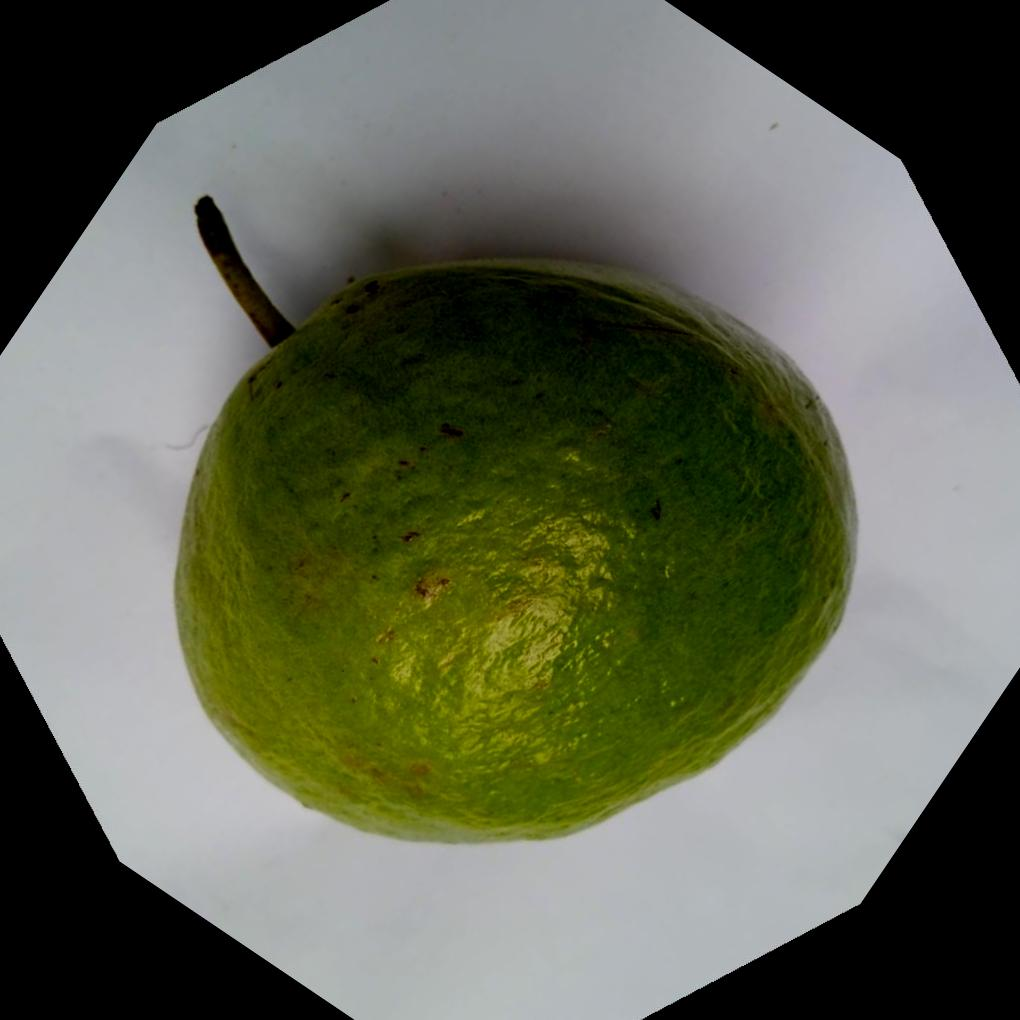FreshGuava: (172, 202, 862, 848)
